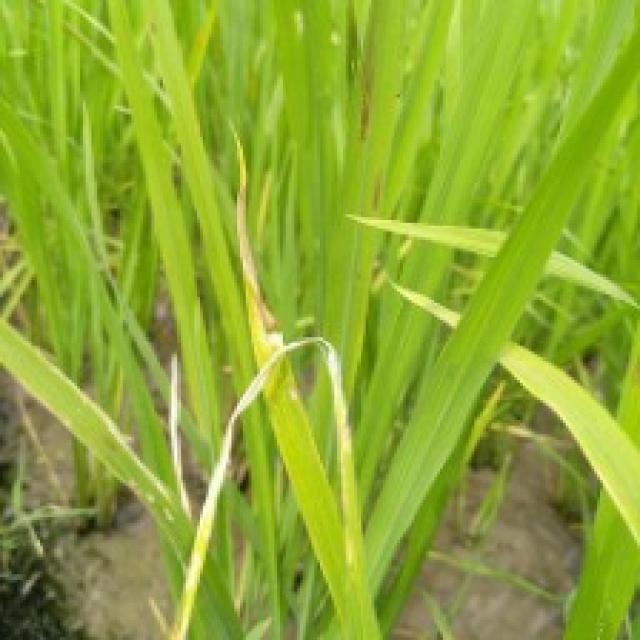Rice_Blast: (161, 318, 364, 640), (221, 130, 296, 363)
